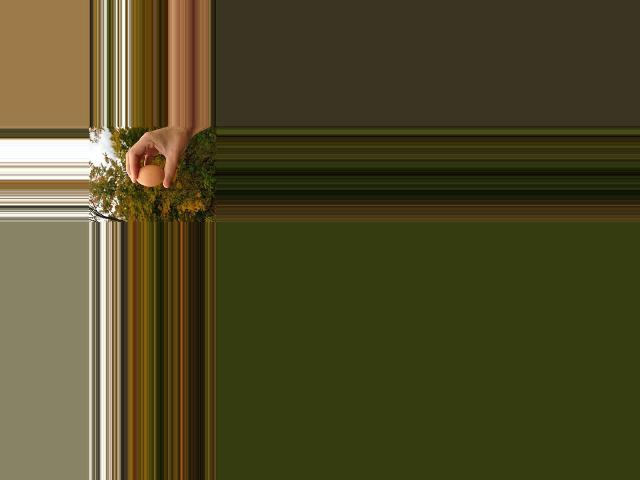egg: (135, 165, 164, 186)
